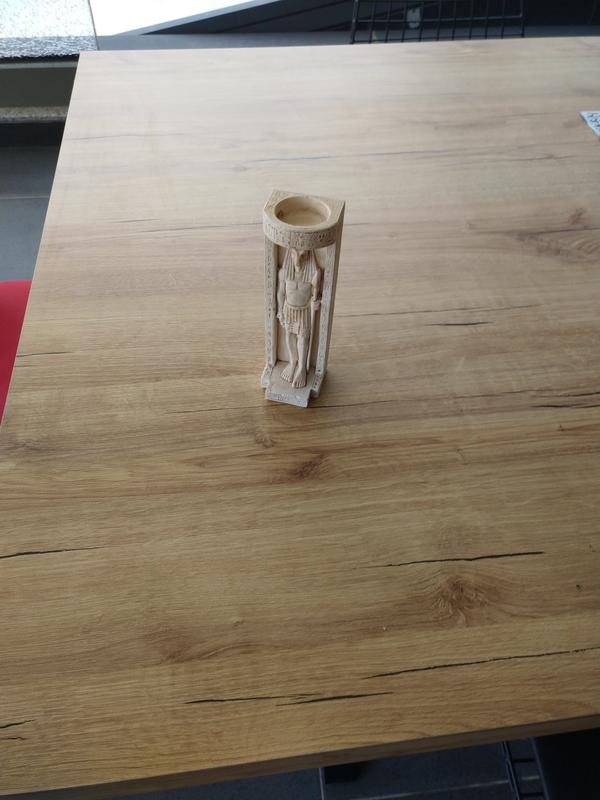heykel: (255, 186, 350, 412)
